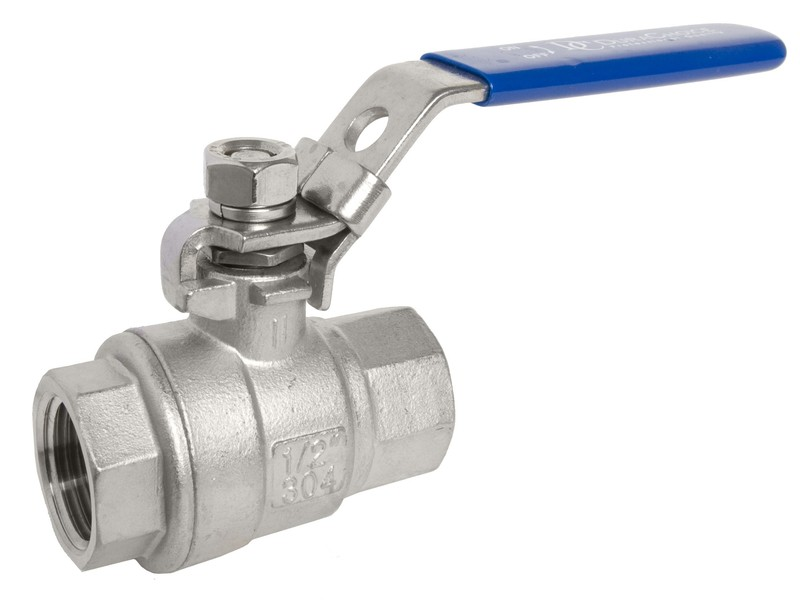valve: (5, 5, 791, 600)
